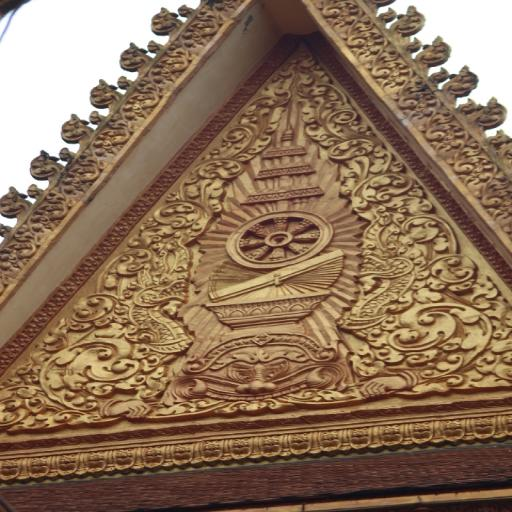la: (77, 253, 168, 324), (362, 199, 454, 254), (324, 141, 406, 201), (216, 94, 281, 158), (302, 72, 359, 144), (138, 203, 202, 249), (183, 164, 238, 200), (367, 58, 418, 95), (452, 151, 496, 190), (27, 192, 73, 228), (346, 28, 396, 60), (150, 48, 193, 83), (422, 124, 470, 154), (122, 83, 162, 119), (402, 92, 446, 124), (319, 2, 375, 27), (90, 124, 132, 154), (0, 231, 38, 263), (179, 16, 218, 47), (480, 188, 512, 224), (62, 158, 101, 185)
lua: (372, 304, 491, 376), (40, 334, 167, 398), (24, 148, 62, 179), (471, 97, 509, 125), (398, 6, 426, 43), (445, 67, 482, 94), (117, 42, 152, 70), (418, 36, 451, 65), (58, 113, 92, 141), (148, 7, 181, 35), (89, 76, 121, 104), (1, 186, 29, 217)
ran: (346, 256, 416, 322), (132, 282, 196, 352)
